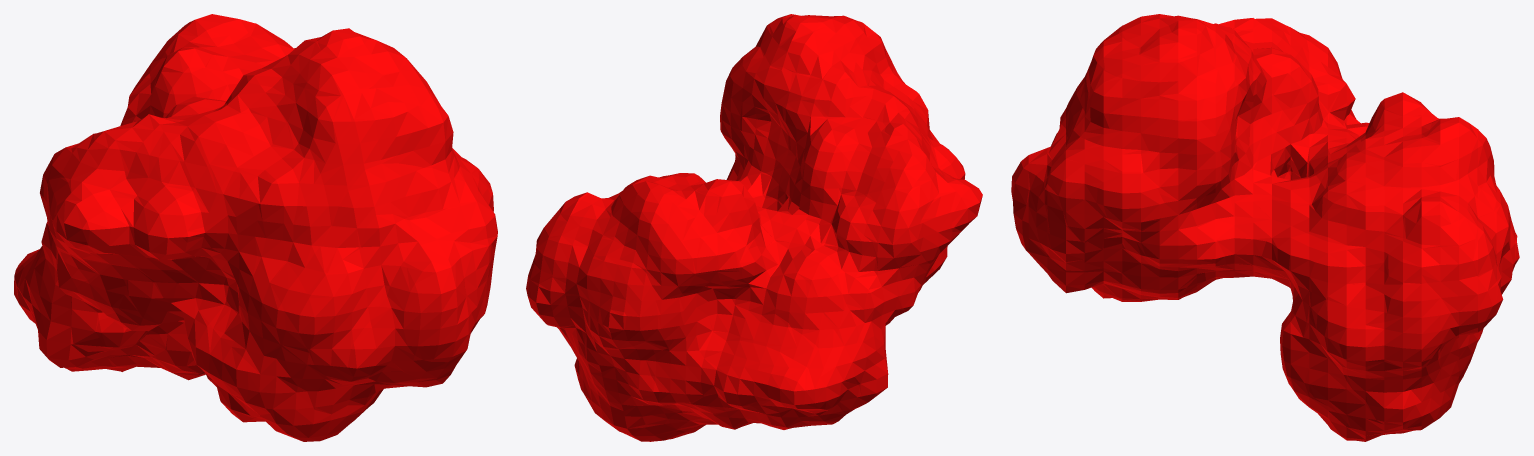
Rendered from yihQ_coarse.dae.
The picture shows the model from 3 angles, left to right: view 1: azimuth 30°, elevation 25°; view 2: azimuth 150°, elevation 25°; view 3: azimuth 270°, elevation 25°; orthographic projection. The views are drawn at different scales.
Parts seen in each view (by area): view 1: yihQ; view 2: yihQ; view 3: yihQ.
Part boxes in pixels (x1,y1,x2,y2): yihQ: (14,14,497,441); yihQ: (526,14,982,441); yihQ: (1011,14,1519,441).
Bounding box in the file's own units: 93.85 × 92.88 × 109.
